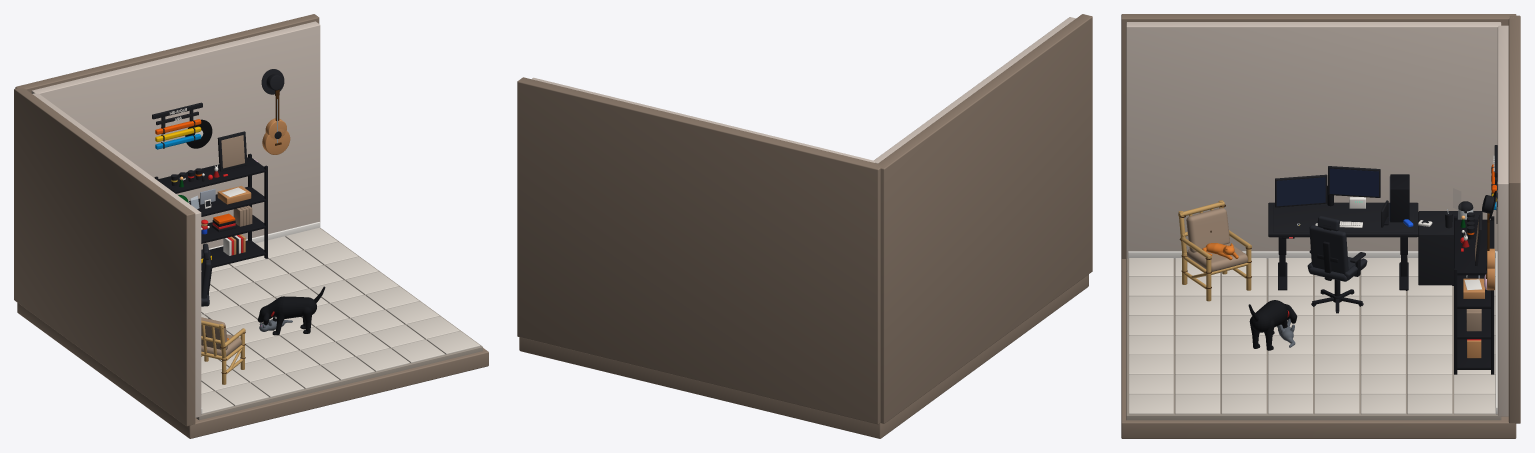
File: Escritorio-draco.glb
3 renders of one model, left to right at view 1: azimuth 30°, elevation 25°; view 2: azimuth 150°, elevation 25°; view 3: azimuth 270°, elevation 25°, orthographic. The views are drawn at different scales.
Visible parts, largest first — view 1: Env_Room_Structure, Furniture_Bookshelf_Frame, Interactive_Shelf_Collectibles, Interactive_Judo_Display, Furniture_BambooArmchair, Pet_BlackDog_Tereza, Interactive_Guitar_Music, Interactive_Shelf_Books_Manga, topChairModel; view 2: Env_Room_Structure; view 3: Env_Room_Structure, Furniture_StandingDesk, Furniture_Bookshelf_Frame, Furniture_BambooArmchair, Furniture_SideCabinet_Drinks, topChairModel, Interactive_PC_Hardware, Pet_BlackDog_Tereza, macScreenModel, pcScreenModel, Interactive_Shelf_Collectibles, Interactive_Monitors (+3 smaller).
Boxes of the visible parts, <box> form: Env_Room_Structure: <box>14,14,488,438</box>; Furniture_Bookshelf_Frame: <box>154,153,267,270</box>; Interactive_Shelf_Collectibles: <box>171,131,251,208</box>; Interactive_Judo_Display: <box>152,102,212,149</box>; Furniture_BambooArmchair: <box>201,317,245,384</box>; Pet_BlackDog_Tereza: <box>257,286,325,335</box>; Interactive_Guitar_Music: <box>261,69,290,154</box>; Interactive_Shelf_Books_Manga: <box>201,205,252,263</box>; topChairModel: <box>201,243,212,306</box>; Env_Room_Structure: <box>517,14,1092,438</box>; Env_Room_Structure: <box>1121,14,1520,438</box>; Furniture_StandingDesk: <box>1268,202,1418,313</box>; Furniture_Bookshelf_Frame: <box>1454,216,1494,374</box>; Furniture_BambooArmchair: <box>1178,200,1251,301</box>; Furniture_SideCabinet_Drinks: <box>1403,201,1482,285</box>; topChairModel: <box>1307,216,1367,281</box>; Interactive_PC_Hardware: <box>1349,174,1409,227</box>; Pet_BlackDog_Tereza: <box>1248,300,1297,350</box>; macScreenModel: <box>1329,168,1378,196</box>; pcScreenModel: <box>1276,177,1325,206</box>; Interactive_Shelf_Collectibles: <box>1460,212,1484,298</box>; Interactive_Monitors: <box>1275,166,1380,207</box>.
Bounding box in the file's own units: 4.73 × 3.36 × 4.73.
